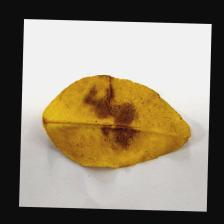black spot: (82, 81, 144, 142)
